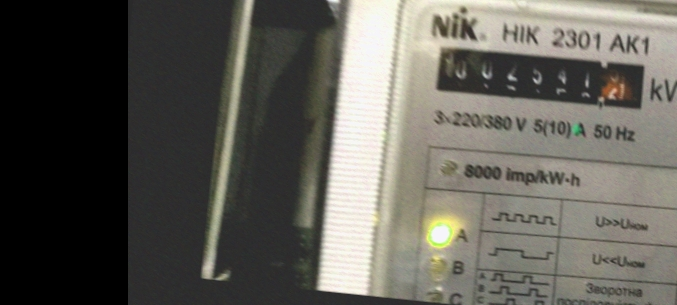0: (451, 53, 472, 80), (479, 52, 496, 81)
1: (579, 61, 594, 89)
2: (503, 55, 522, 81)
4: (555, 59, 570, 84)
5: (528, 57, 549, 86)
6: (605, 80, 622, 100)
screen: (423, 28, 662, 123)
